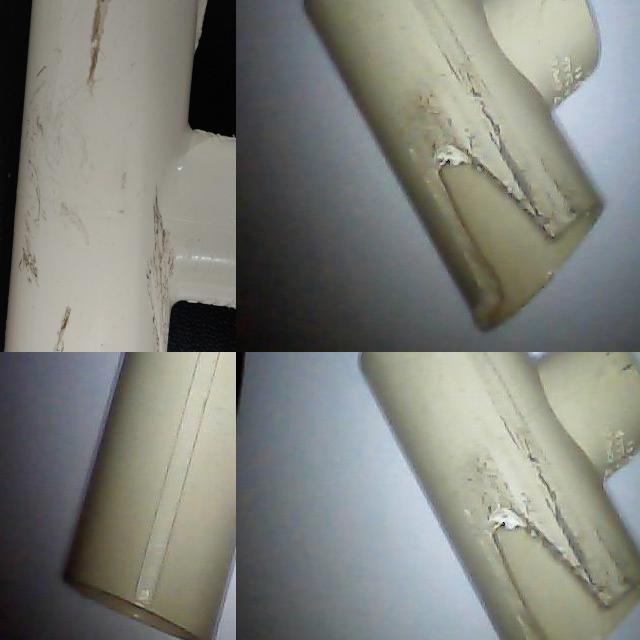Defective: (424, 150, 563, 302), (494, 528, 599, 640), (155, 258, 236, 322), (37, 238, 127, 276)
T Joint: (303, 0, 606, 334), (358, 352, 640, 640), (0, 119, 236, 352), (60, 352, 236, 640)
